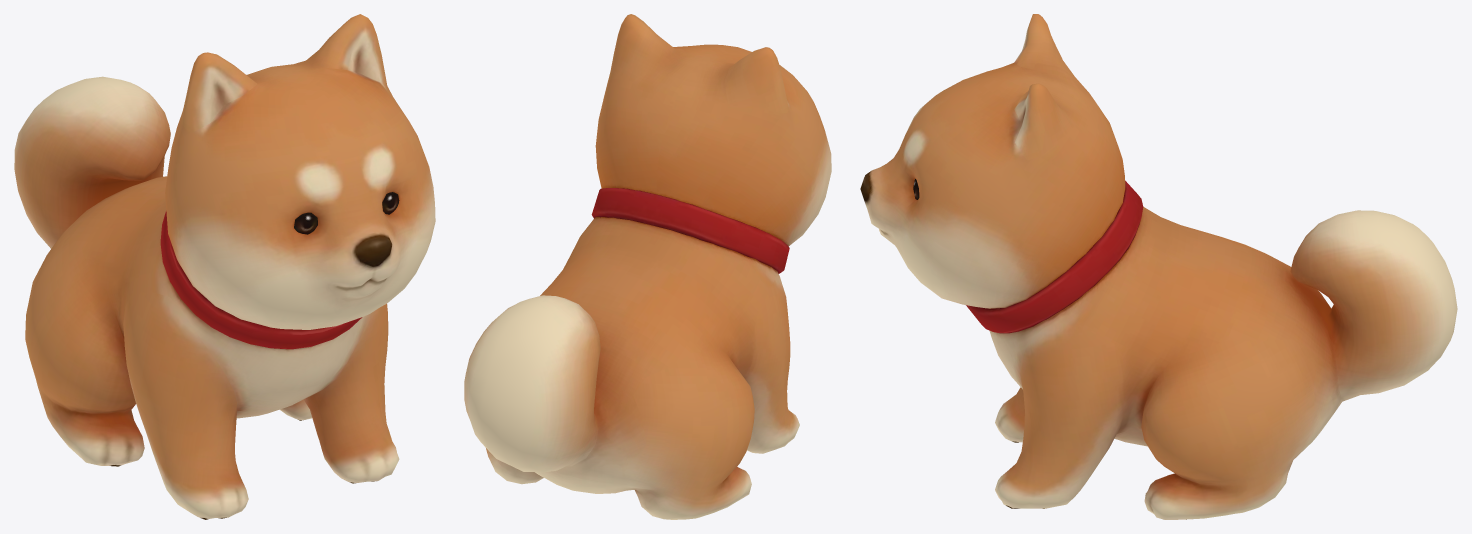
Rendered from shiba-transformed.glb.
The picture shows the model from 3 angles, left to right: view 1: azimuth 30°, elevation 25°; view 2: azimuth 150°, elevation 25°; view 3: azimuth 270°, elevation 25°; orthographic projection. The views are drawn at different scales.
Parts seen in each view (by area): view 1: Box002, Group18985, Object001_default_0; view 2: Box002, Group18985; view 3: Box002, Group18985.
Boxes of the visible parts, <box> form: Box002: <box>14,14,435,519</box>; Group18985: <box>160,211,362,349</box>; Object001_default_0: <box>294,192,399,234</box>; Box002: <box>464,14,831,519</box>; Group18985: <box>591,188,789,273</box>; Box002: <box>860,14,1457,519</box>; Group18985: <box>966,180,1143,333</box>.
Size of the model in its own units: 0.9208 by 1.38 by 1.77.
Materials: 1 (1 with a texture image).
